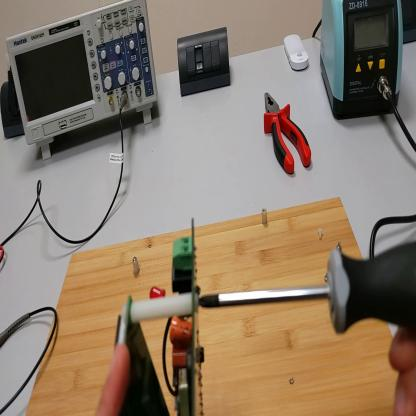hand: (94, 339, 133, 415), (391, 322, 416, 416)
low voltage board: (131, 213, 206, 415)
oscilloscope: (6, 4, 160, 159)
oscilloscope probe tip: (1, 309, 31, 348)
pliers: (263, 92, 313, 177)
screwdriver-: (200, 238, 416, 339)
socket: (2, 81, 28, 141), (404, 1, 416, 46)
welder station: (321, 2, 406, 121)
working area: (27, 184, 401, 415)
